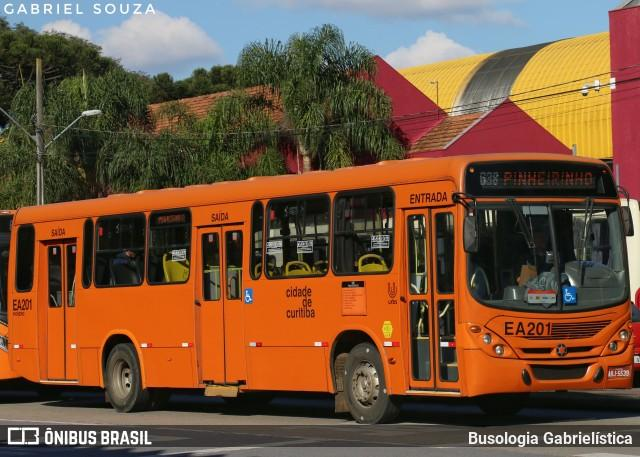PINHEIRINHO: (499, 166, 598, 190)
